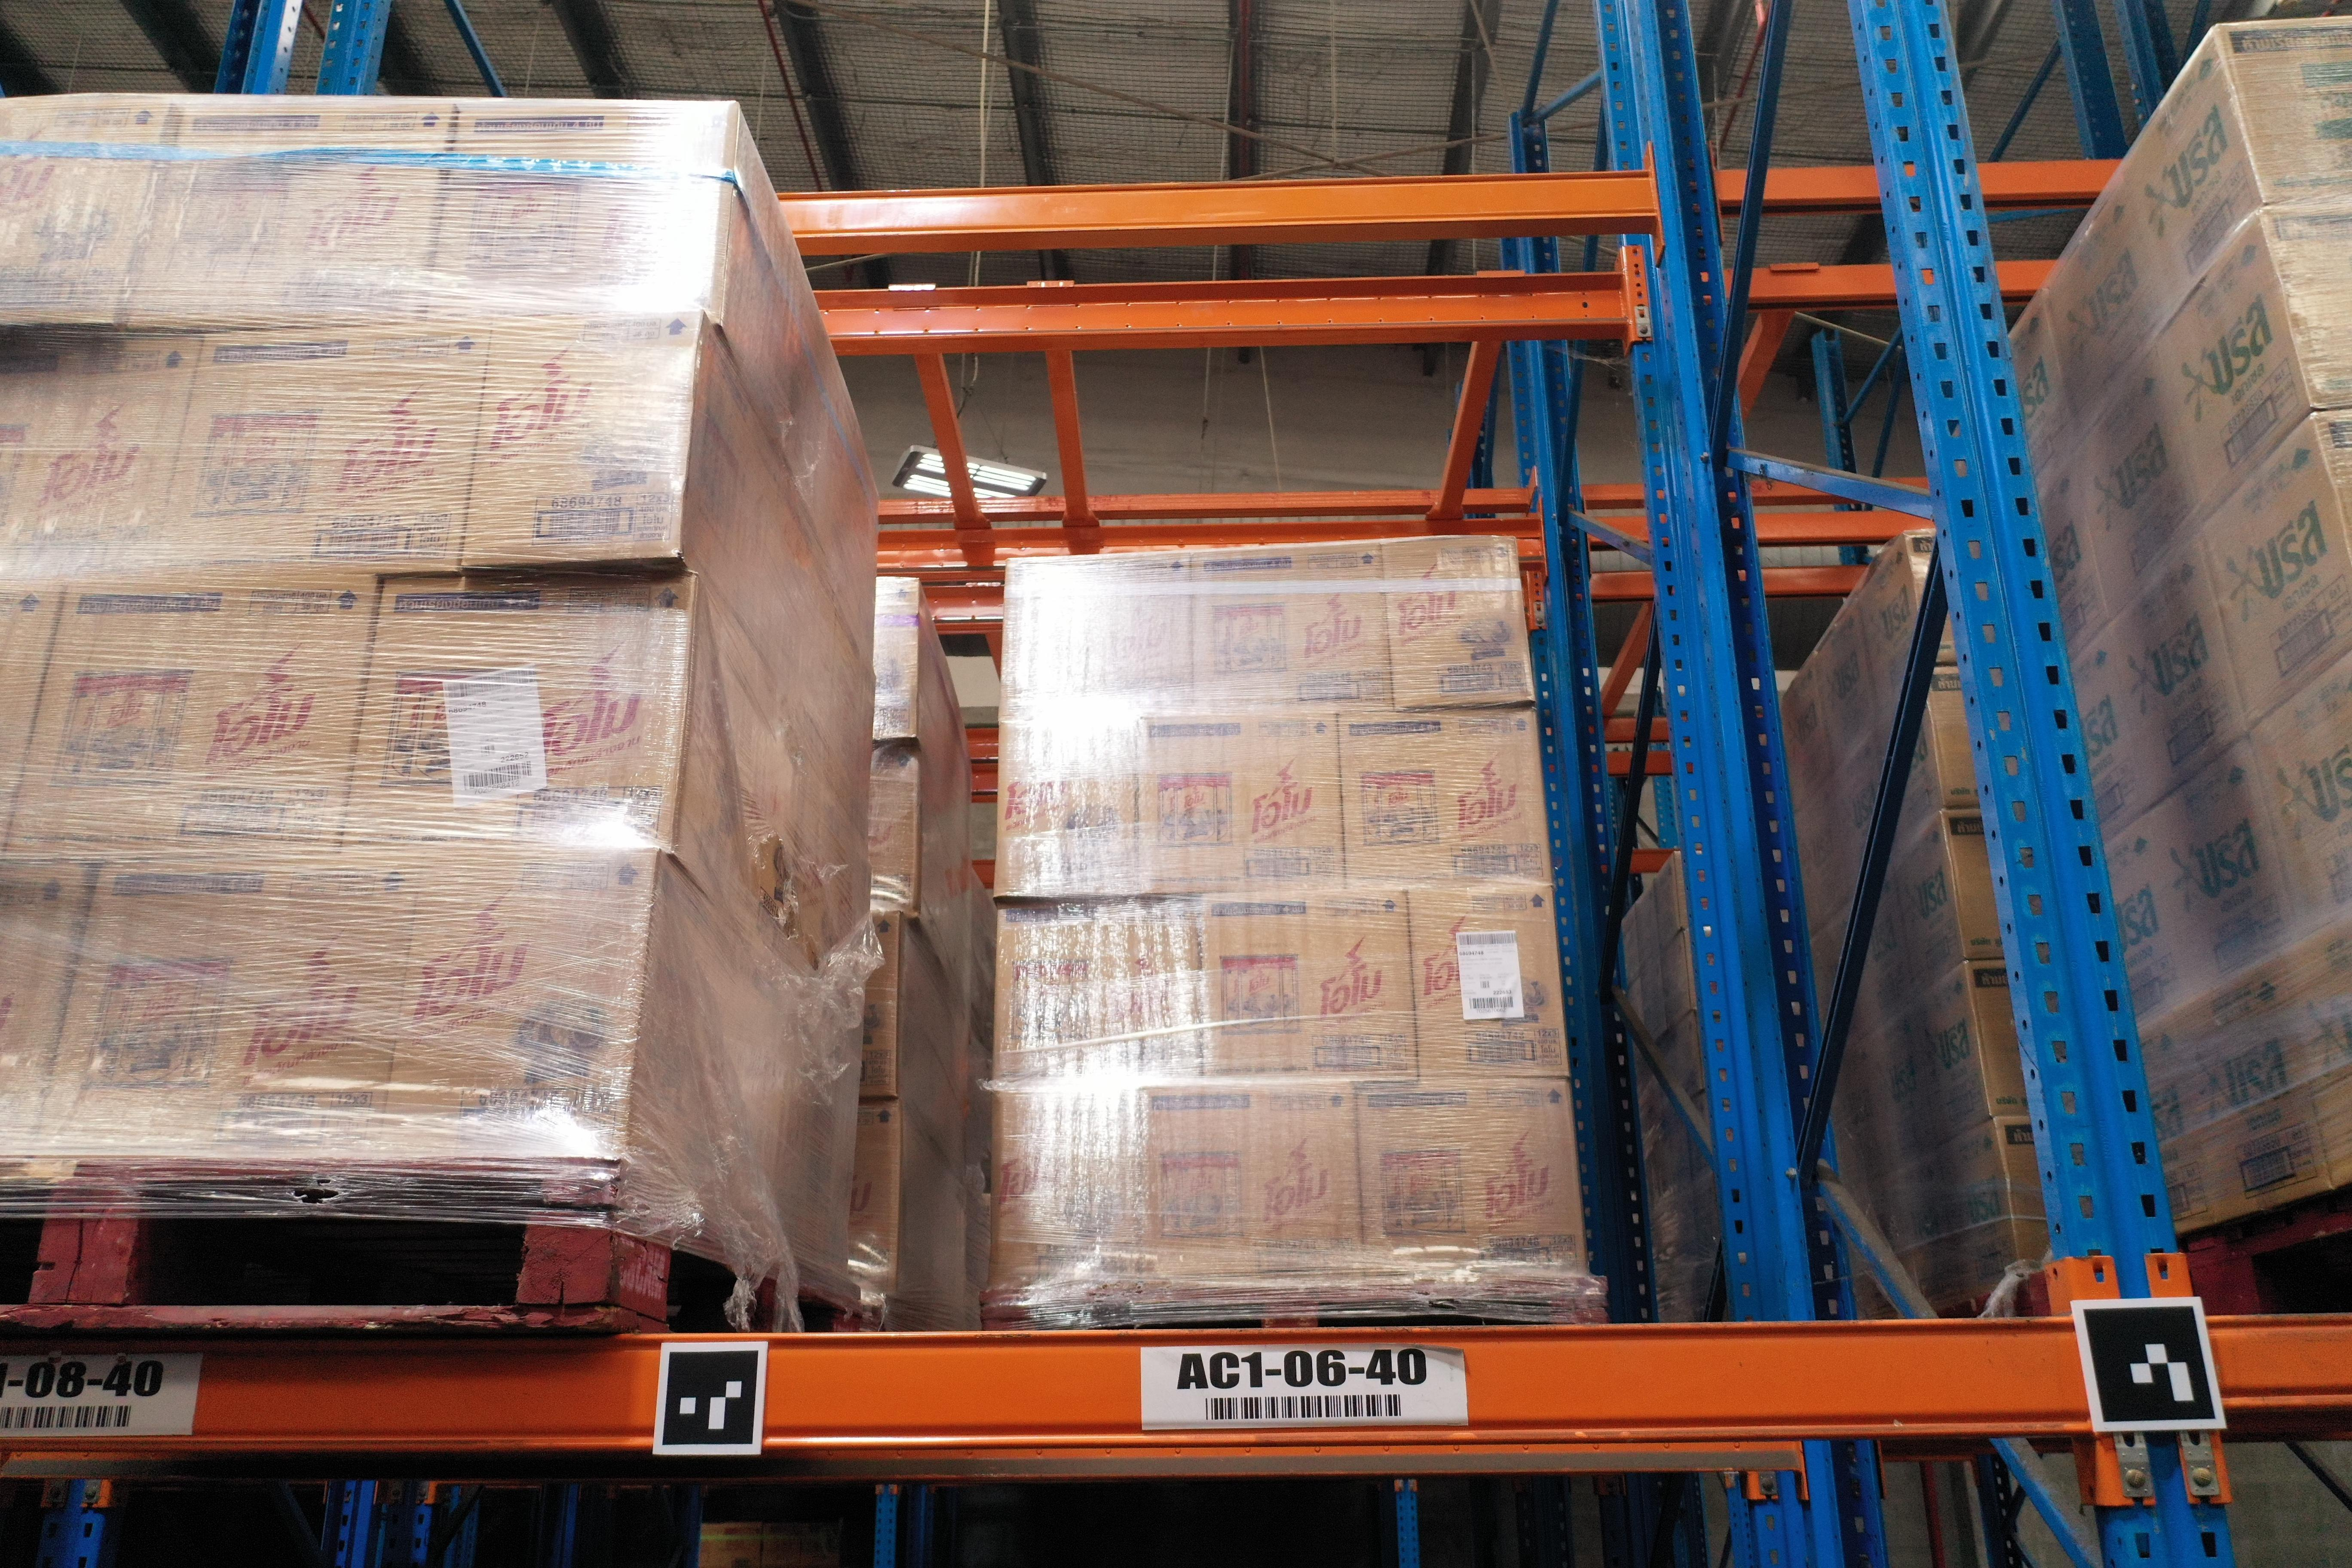-: (30, 856, 423, 1165), (5, 572, 383, 857), (343, 572, 698, 857), (145, 327, 490, 593), (383, 854, 661, 1165), (121, 93, 462, 329), (413, 98, 738, 329), (464, 317, 703, 569), (2, 329, 212, 591), (0, 94, 182, 327), (0, 845, 103, 1160)
box: (1150, 1073, 1363, 1293), (1356, 1078, 1582, 1284), (1192, 887, 1421, 1080), (1337, 703, 1552, 892), (1139, 710, 1342, 899), (996, 898, 1199, 1085), (1190, 542, 1395, 716), (1410, 884, 1575, 1081), (996, 1081, 1151, 1286), (1006, 553, 1195, 716), (994, 714, 1144, 898), (1382, 537, 1536, 714)
